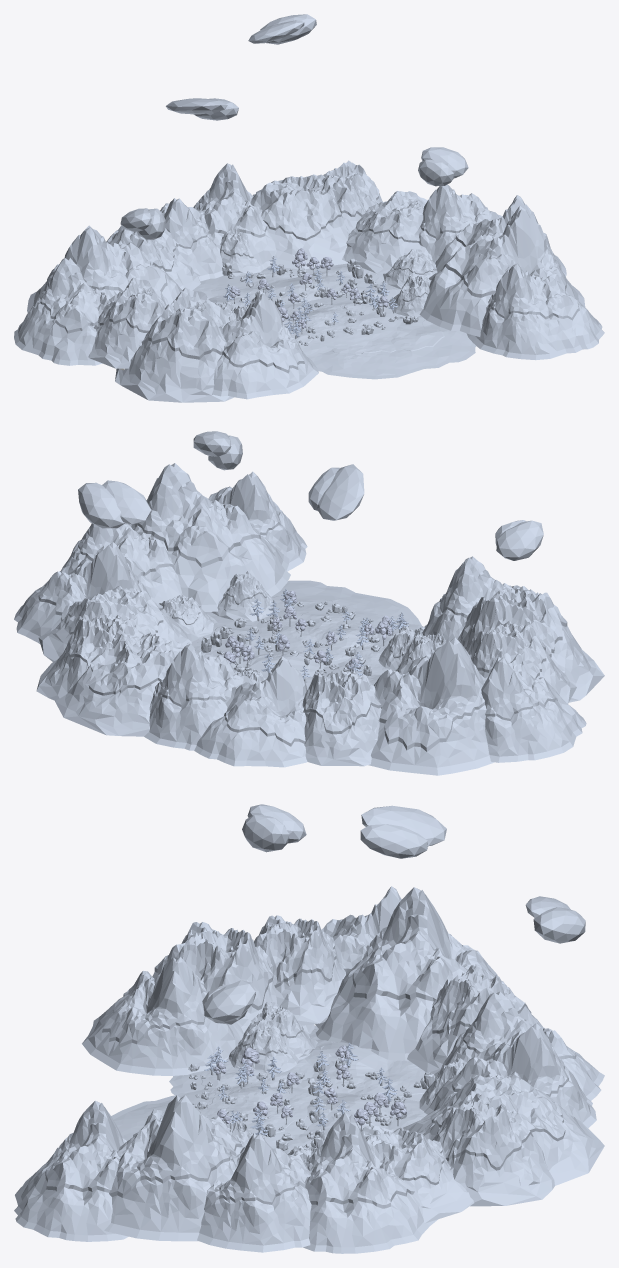
The model's file is mountain.glb.
The picture shows the model from 3 angles, top to bottom: view 1: azimuth 30°, elevation 25°; view 2: azimuth 150°, elevation 25°; view 3: azimuth 270°, elevation 25°; orthographic projection. The views are drawn at different scales.
Visible parts, largest first — view 1: PP_Forest_Mountain_Moss_02_5, PP_Forest_Mountain_Moss_01_6, PP_Forest_Mountain_Moss_01_4, PP_Forest_Mountain_Moss_01, PP_Forest_Mountain_Moss_02_3, PP_Forest_Mountain_Moss_01_2, PP_Forest_Mountain_Moss_01_4.005, PP_Forest_Mountain_Moss_02_2, PP_Forest_Mountain_Moss_01_8, PP_Forest_Mountain_Moss_02_9, PP_Forest_Mountain_Moss_01_3, PP_Forest_Mountain_Moss_01_4.001 (+18 smaller); view 2: PP_Forest_Mountain_Moss_01_8, PP_Forest_Mountain_Moss_01_6, PP_Forest_Mountain_Moss_01_1, PP_Forest_Mountain_Moss_02_3, PP_Forest_Mountain_Moss_01_2, PP_Forest_Mountain_Moss_02_10, PP_Forest_Mountain_Moss_01_3, PP_Forest_Mountain_Moss_02_5, PP_Forest_Mountain_Moss_01_7, PP_Forest_Mountain_Moss_02_2, PP_Forest_Mountain_Moss_01_5, PP_Forest_Mountain_Moss_02_9 (+18 smaller); view 3: PP_Forest_Mountain_Moss_01_8, PP_Forest_Mountain_Moss_01_6, PP_Forest_Mountain_Moss_01, PP_Forest_Mountain_Moss_01_7, PP_Forest_Mountain_Moss_01_4, PP_Forest_Mountain_Moss_01_5, PP_Forest_Mountain_Moss_02_1, PP_Forest_Mountain_Moss_02_3, PP_Forest_Mountain_Moss_02_9, PP_Forest_Mountain_Moss_01_3, PP_Forest_Mountain_Moss_02_5, PP_Forest_Mountain_Moss_02_2 (+17 smaller).
Part boxes in pixels (x1=…): PP_Forest_Mountain_Moss_02_5: x1=115, y1=287, x2=234, y2=402; PP_Forest_Mountain_Moss_01_6: x1=419, y1=206, x2=585, y2=336; PP_Forest_Mountain_Moss_01_4: x1=466, y1=262, x2=604, y2=360; PP_Forest_Mountain_Moss_01: x1=212, y1=291, x2=318, y2=399; PP_Forest_Mountain_Moss_02_3: x1=250, y1=174, x2=349, y2=269; PP_Forest_Mountain_Moss_01_2: x1=14, y1=258, x2=110, y2=365; PP_Forest_Mountain_Moss_01_4.005: x1=307, y1=317, x2=476, y2=379; PP_Forest_Mountain_Moss_02_2: x1=342, y1=191, x2=432, y2=273; PP_Forest_Mountain_Moss_01_8: x1=27, y1=225, x2=182, y2=312; PP_Forest_Mountain_Moss_02_9: x1=87, y1=277, x2=168, y2=368; PP_Forest_Mountain_Moss_01_3: x1=193, y1=163, x2=276, y2=269; PP_Forest_Mountain_Moss_01_4.001: x1=283, y1=295, x2=402, y2=347; PP_Forest_Mountain_Moss_01_8: x1=368, y1=637, x2=493, y2=775; PP_Forest_Mountain_Moss_01_6: x1=128, y1=463, x2=290, y2=611; PP_Forest_Mountain_Moss_01_1: x1=194, y1=656, x2=307, y2=767; PP_Forest_Mountain_Moss_02_3: x1=55, y1=627, x2=184, y2=736; PP_Forest_Mountain_Moss_01_2: x1=481, y1=656, x2=586, y2=762; PP_Forest_Mountain_Moss_02_10: x1=302, y1=670, x2=381, y2=766; PP_Forest_Mountain_Moss_01_3: x1=144, y1=642, x2=256, y2=750; PP_Forest_Mountain_Moss_02_5: x1=457, y1=586, x2=604, y2=702; PP_Forest_Mountain_Moss_01_7: x1=14, y1=542, x2=148, y2=644; PP_Forest_Mountain_Moss_02_2: x1=38, y1=586, x2=199, y2=661; PP_Forest_Mountain_Moss_01_5: x1=60, y1=523, x2=182, y2=603; PP_Forest_Mountain_Moss_02_9: x1=466, y1=620, x2=576, y2=703; PP_Forest_Mountain_Moss_01_8: x1=315, y1=887, x2=513, y2=1060; PP_Forest_Mountain_Moss_01_6: x1=104, y1=1095, x2=244, y2=1241; PP_Forest_Mountain_Moss_01: x1=82, y1=957, x2=243, y2=1075; PP_Forest_Mountain_Moss_01_7: x1=303, y1=1112, x2=437, y2=1253; PP_Forest_Mountain_Moss_01_4: x1=14, y1=1100, x2=128, y2=1241; PP_Forest_Mountain_Moss_01_5: x1=197, y1=1133, x2=311, y2=1252; PP_Forest_Mountain_Moss_02_1: x1=432, y1=1093, x2=554, y2=1206; PP_Forest_Mountain_Moss_02_3: x1=403, y1=1071, x2=604, y2=1185; PP_Forest_Mountain_Moss_02_9: x1=254, y1=915, x2=345, y2=1025; PP_Forest_Mountain_Moss_01_3: x1=424, y1=1023, x2=596, y2=1128; PP_Forest_Mountain_Moss_02_5: x1=152, y1=922, x2=314, y2=1034; PP_Forest_Mountain_Moss_02_2: x1=361, y1=1126, x2=473, y2=1223.
Bounding box in the file's own units: 693 × 287 × 560.
